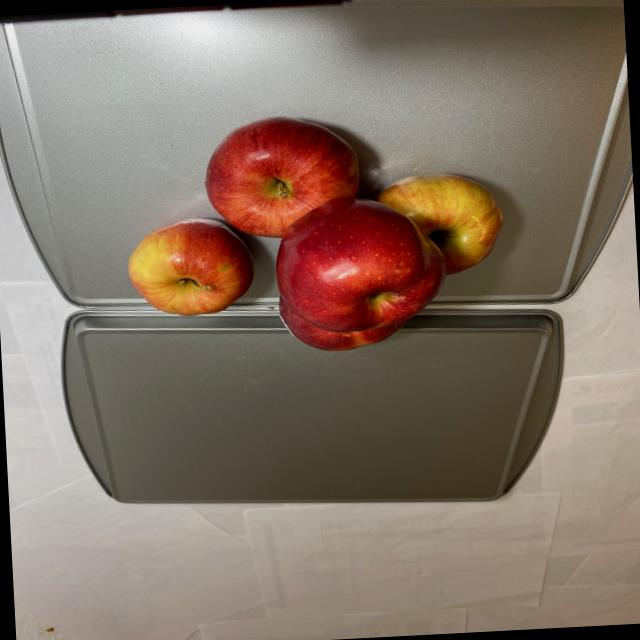apple: (110, 102, 514, 363)
